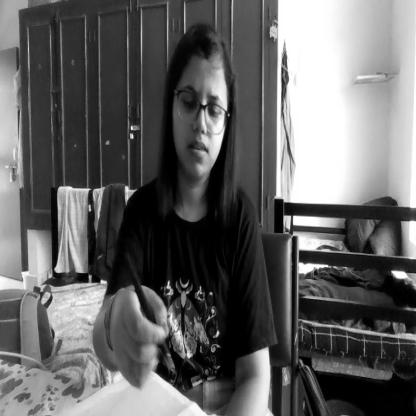Normal: (170, 28, 234, 188)
